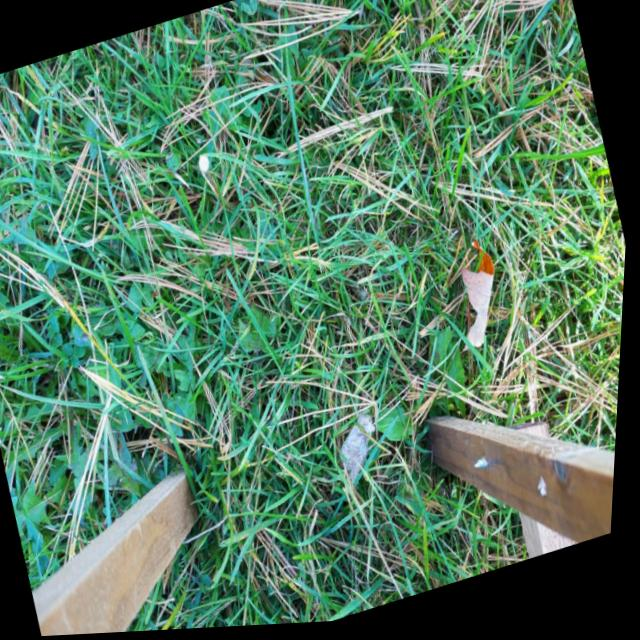base: (228, 194, 250, 225)
